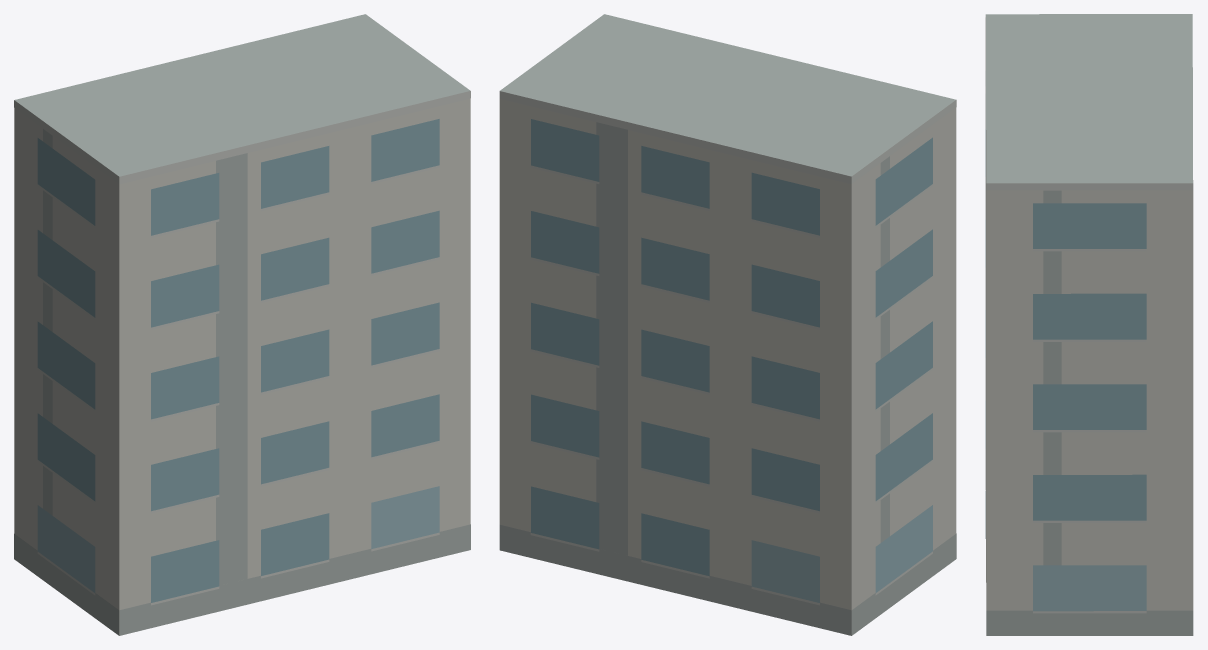
File: survey-upis-32728800.glb
3 views of the same model, side by side, from view 1: azimuth 30°, elevation 25°; view 2: azimuth 150°, elevation 25°; view 3: azimuth 270°, elevation 25° (orthographic).
Visible parts, largest first — view 1: survey-upis-32728800.tmp; view 2: survey-upis-32728800.tmp; view 3: survey-upis-32728800.tmp.
Boxes of the visible parts, bbox=[...] form: survey-upis-32728800.tmp: bbox=[14, 14, 470, 635]; survey-upis-32728800.tmp: bbox=[499, 14, 956, 635]; survey-upis-32728800.tmp: bbox=[985, 14, 1193, 635].
Size of the model in its own units: 11.81 by 14.7 by 6.13.
